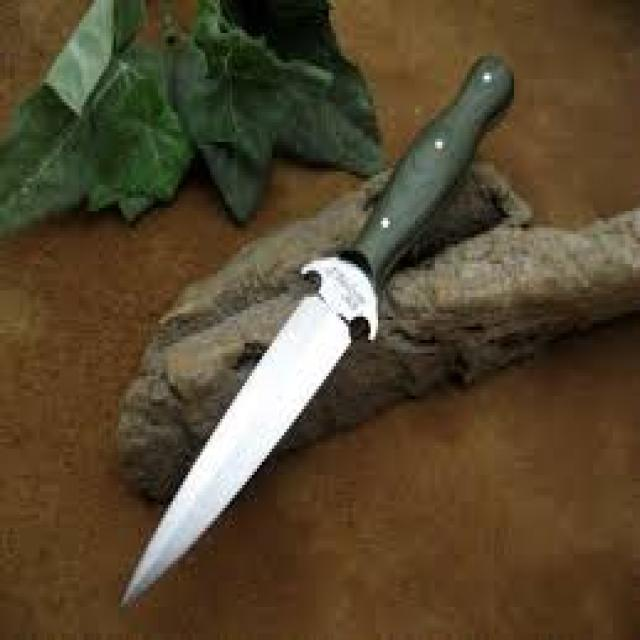Gun: (112, 51, 524, 626)
